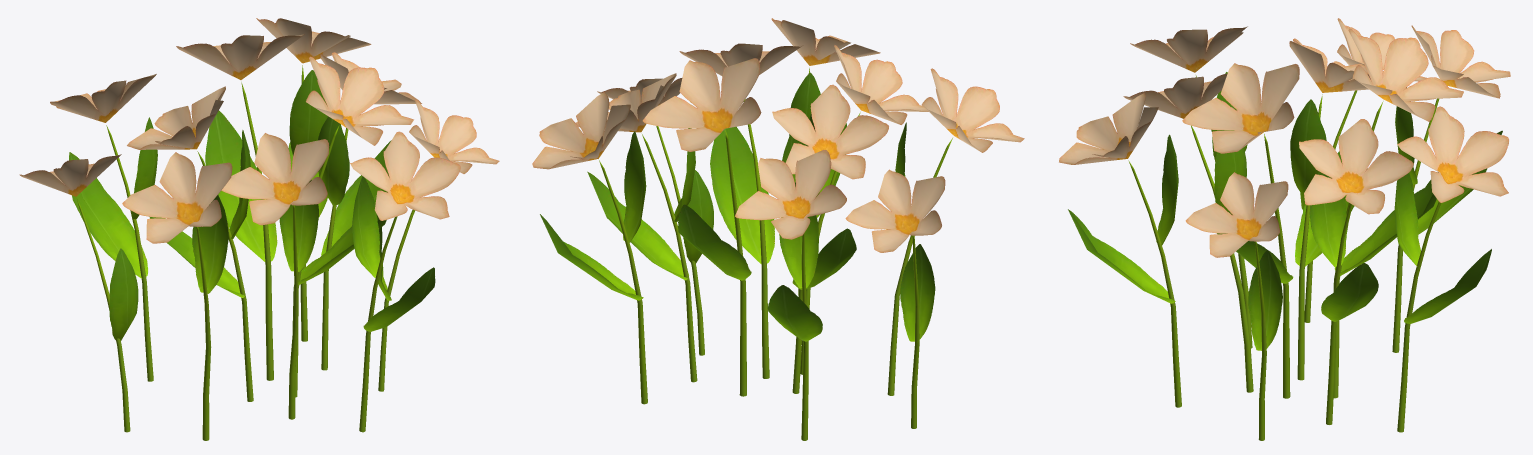
Rendered from Flower_1_Group.glb.
The picture shows the model from 3 angles, left to right: view 1: azimuth 30°, elevation 25°; view 2: azimuth 150°, elevation 25°; view 3: azimuth 270°, elevation 25°; orthographic projection. The views are drawn at different scales.
Visible parts, largest first — view 1: Flower_1_Group; view 2: Flower_1_Group; view 3: Flower_1_Group.
Part boxes in pixels (x1=…): Flower_1_Group: x1=19, y1=18, x2=499, y2=440; Flower_1_Group: x1=532, y1=18, x2=1024, y2=440; Flower_1_Group: x1=1059, y1=18, x2=1510, y2=440.
Bounding box in the file's own units: 1.83 × 1.5 × 1.72.
2 materials, 2 textured.
